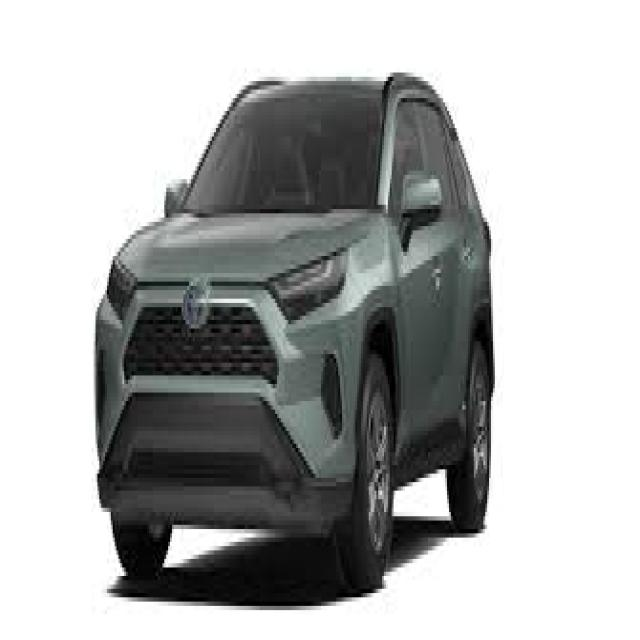light_vehicle: (92, 70, 496, 591)
